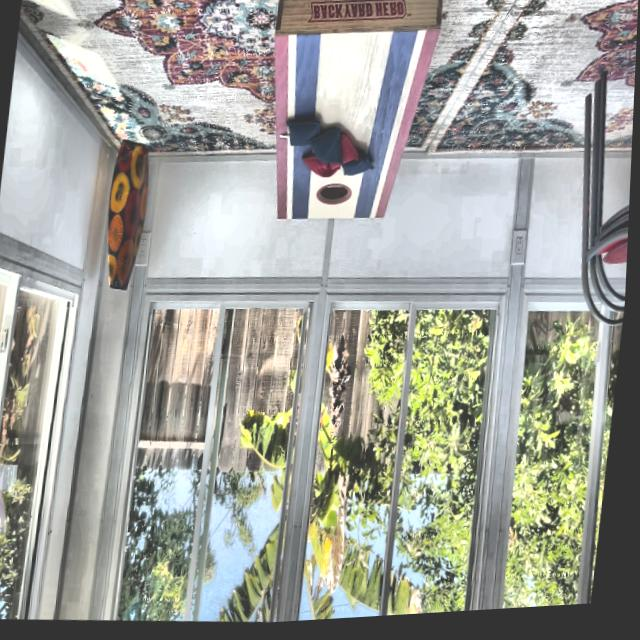blue-bean-bag: (285, 116, 334, 153), (307, 131, 346, 169), (341, 157, 378, 184)
board: (271, 32, 417, 230)
hole: (317, 186, 354, 211)
red-bean-bag: (321, 134, 363, 174), (301, 152, 344, 183)
